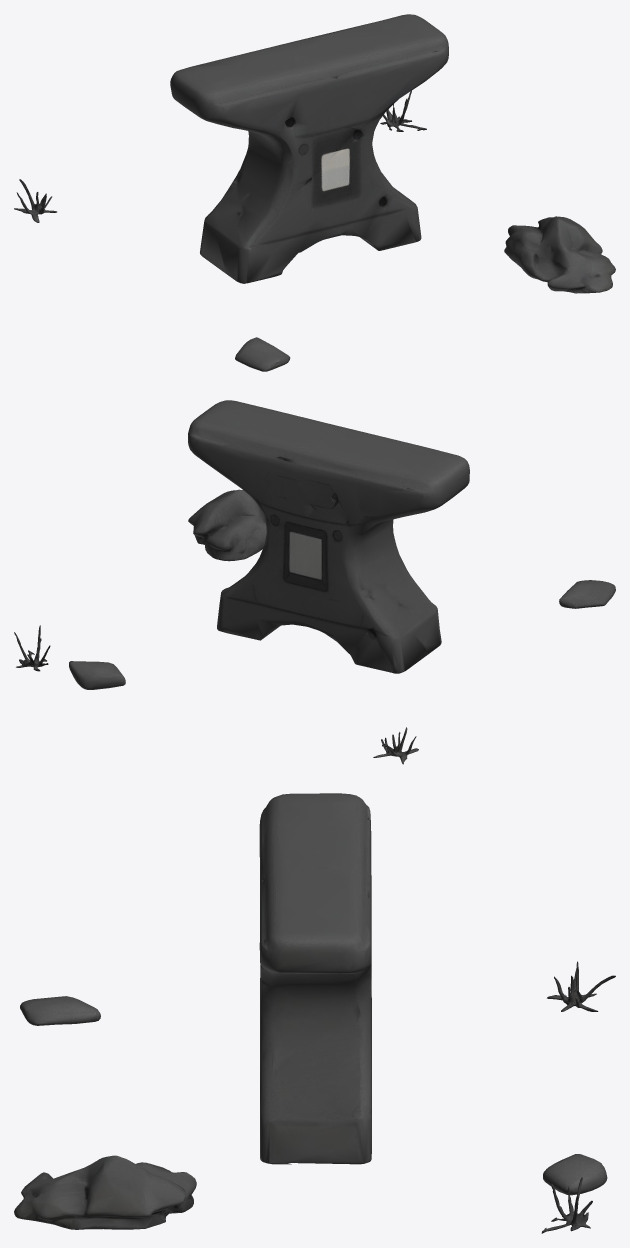
Rendered from anvil.glb.
3 views of the same model, one above another, from view 1: azimuth 30°, elevation 25°; view 2: azimuth 150°, elevation 25°; view 3: azimuth 270°, elevation 25° (orthographic). The views are drawn at different scales.
Parts seen in each view (by area): view 1: Mesh_0; view 2: Mesh_0; view 3: Mesh_0.
Part boxes in pixels (x1,y1,x2,y2): Mesh_0: (14, 14, 615, 371); Mesh_0: (14, 400, 615, 764); Mesh_0: (14, 793, 615, 1233).
Bounding box in the file's own units: 1.91 × 0.8969 × 2.
Materials: 1 (1 with a texture image).
